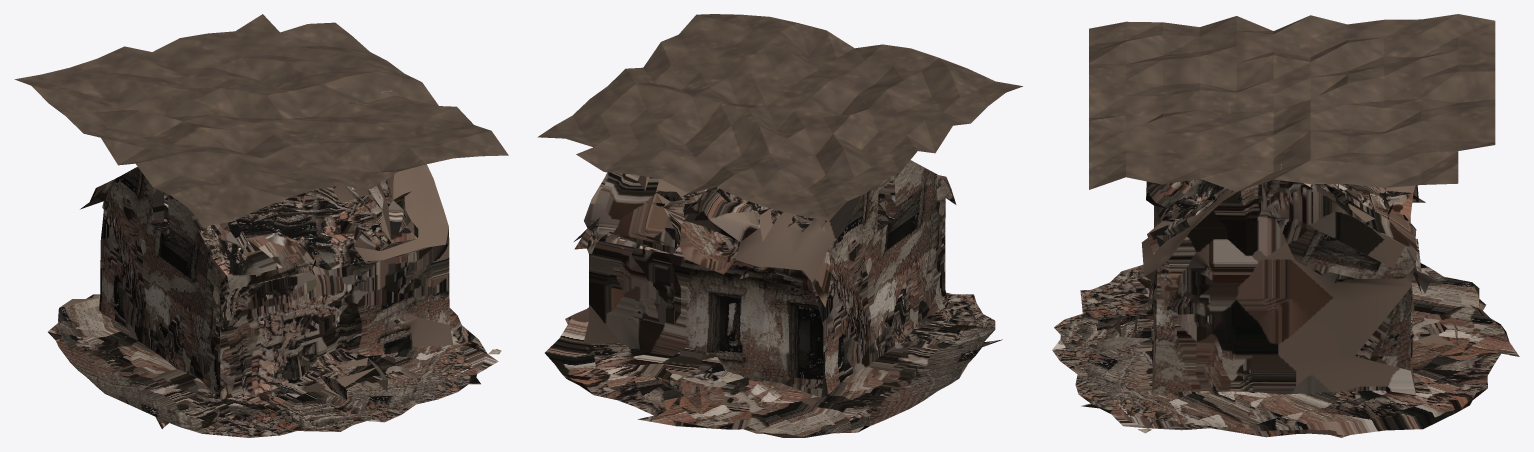
Rendered from ruin_collapse.glb.
3 views of the same model, side by side, from view 1: azimuth 30°, elevation 25°; view 2: azimuth 150°, elevation 25°; view 3: azimuth 270°, elevation 25° (orthographic). The views are drawn at different scales.
Size of the model in its own units: 1.79 by 1.17 by 1.95.
Materials: 1 (1 with a texture image).
